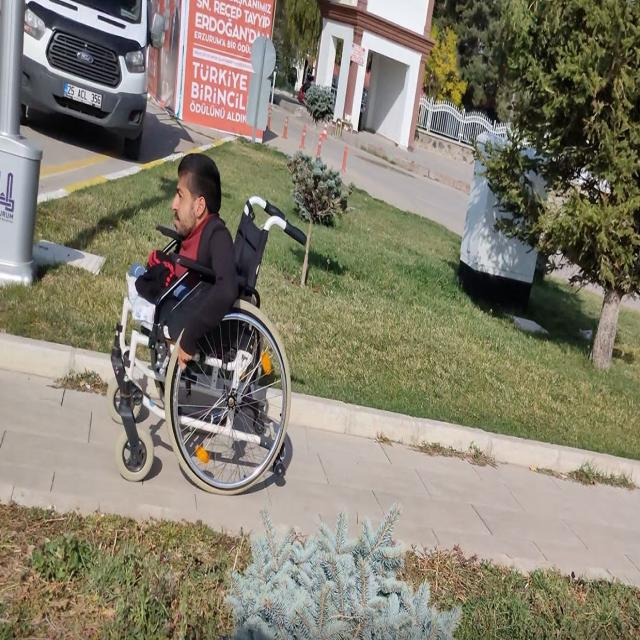wheelchairs: (105, 185, 302, 488)
